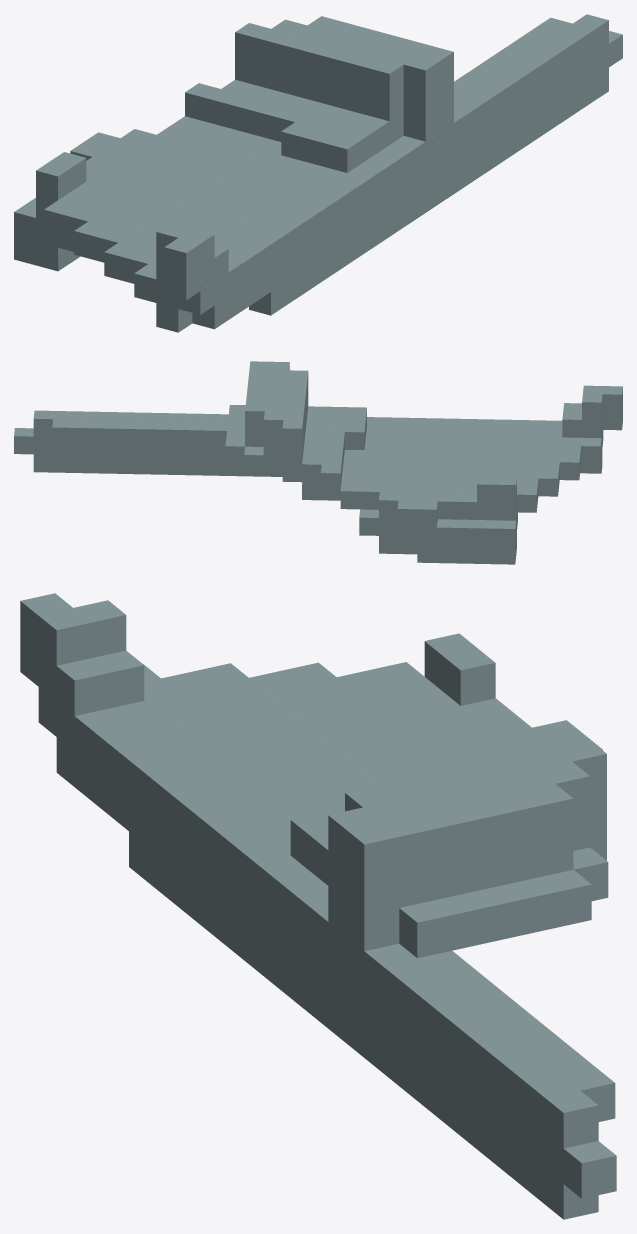
3 renders of one model, top to bottom at view 1: azimuth 30°, elevation 25°; view 2: azimuth 150°, elevation 25°; view 3: azimuth 270°, elevation 25°, orthographic. The views are drawn at different scales.
Parts seen in each view (by area): view 1: measured-industrial; view 2: measured-industrial; view 3: measured-industrial.
Part boxes in pixels (x1,y1,x2,y2): measured-industrial: (14, 14, 622, 332); measured-industrial: (14, 361, 622, 564); measured-industrial: (20, 593, 616, 1219).
Bounding box in the file's own units: 42.22 × 9.02 × 22.78.
